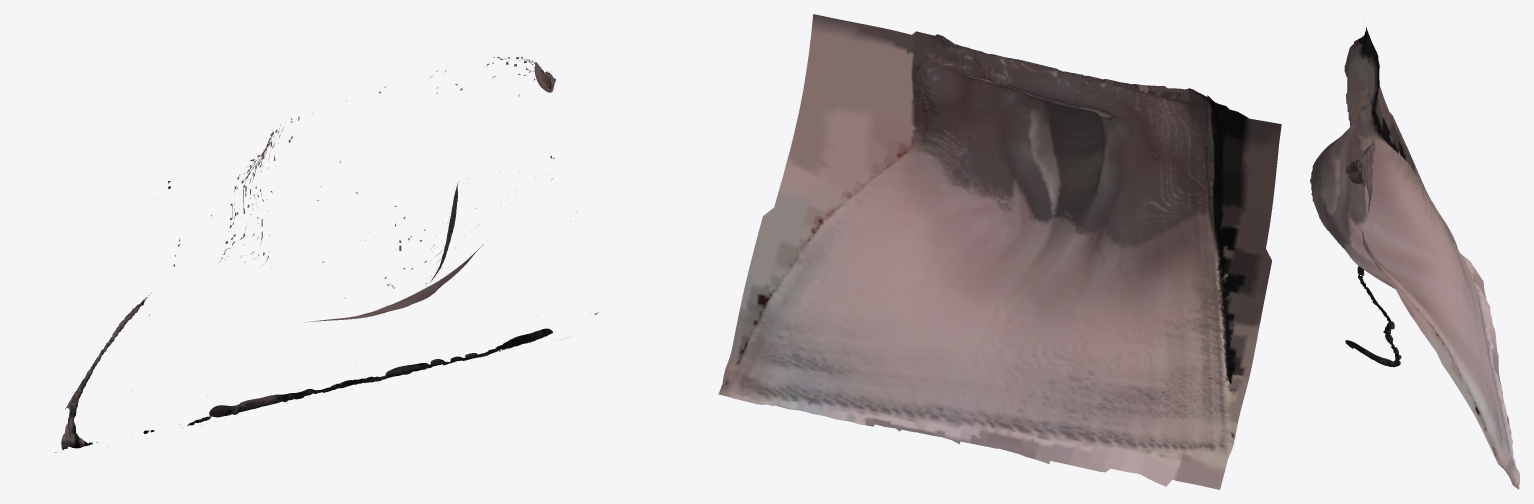
3 views of the same model, side by side, from view 1: azimuth 30°, elevation 25°; view 2: azimuth 150°, elevation 25°; view 3: azimuth 270°, elevation 25° (orthographic). The views are drawn at different scales.
Size of the model in its own units: 0.00142 by 0.000921 by 0.000619.
